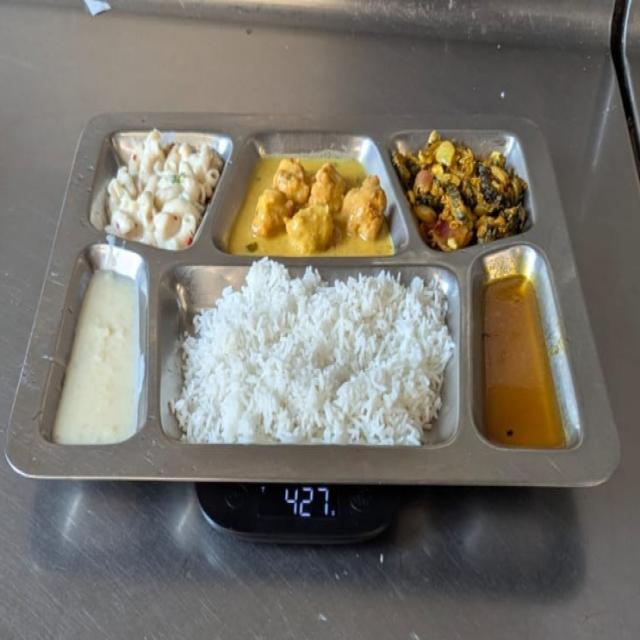Kadhi: (222, 148, 391, 254)
Karela Sabji: (390, 127, 528, 249)
Kheer: (54, 266, 147, 445)
Pasta: (96, 126, 226, 252)
Rasam: (478, 273, 568, 452)
White Rice: (169, 254, 457, 452)
